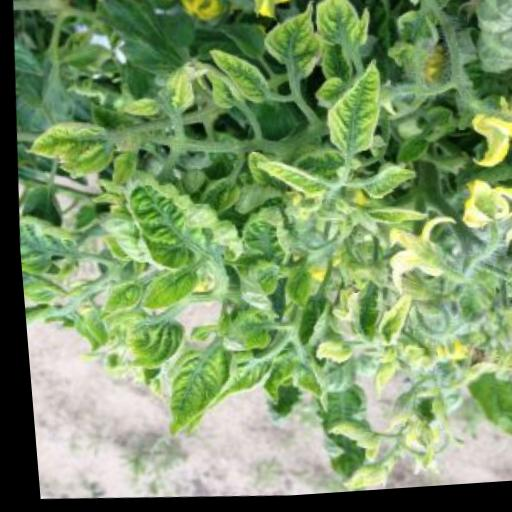Yellow Leaf Curl Virus: (121, 181, 243, 279), (155, 339, 234, 442), (19, 118, 117, 187), (320, 63, 385, 165), (258, 0, 327, 85), (14, 211, 86, 285), (203, 351, 270, 414), (128, 262, 199, 320), (204, 52, 273, 110), (312, 0, 373, 60), (235, 206, 290, 272), (252, 159, 327, 205), (120, 316, 180, 373), (362, 299, 411, 360), (230, 262, 281, 319), (215, 310, 272, 357), (281, 360, 329, 415), (359, 166, 416, 208), (357, 204, 427, 237), (278, 266, 312, 318), (167, 68, 197, 120)
